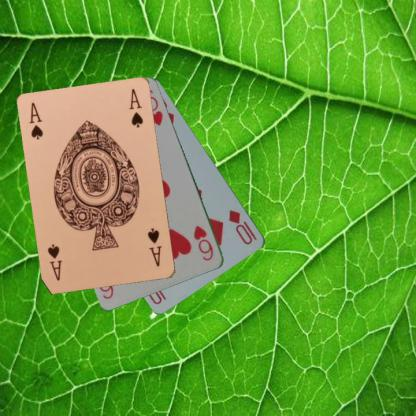10d: (226, 207, 258, 246)
6h: (191, 222, 215, 262)
As: (145, 226, 164, 268), (27, 99, 45, 141)
